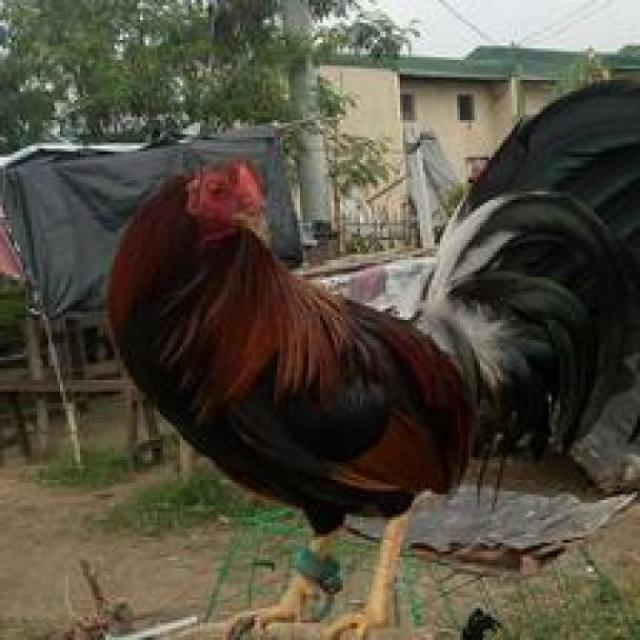Chicken: (104, 145, 640, 637)
